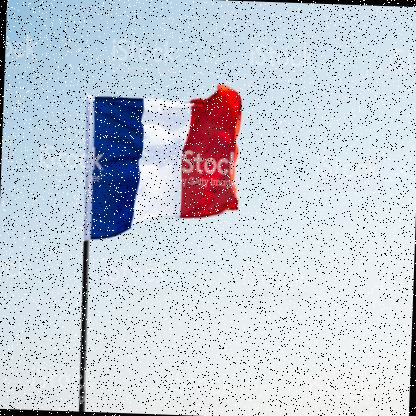fr: (88, 92, 249, 242)
